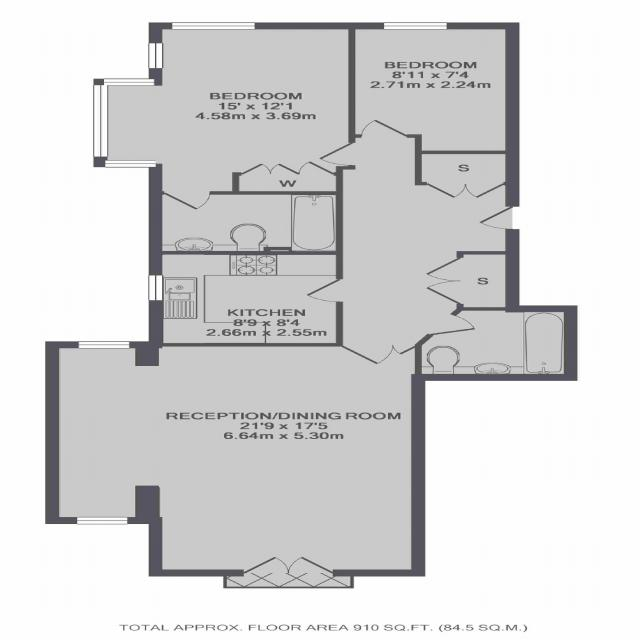DOOR: (425, 312, 479, 337), (473, 205, 521, 231), (302, 278, 345, 304), (314, 141, 357, 167), (359, 118, 412, 139), (162, 191, 214, 212)
DOUBLE DOOR: (240, 558, 334, 582)
ROOM: (45, 341, 426, 577), (92, 22, 357, 211), (347, 22, 520, 154), (148, 250, 345, 347)
WINDOW: (90, 85, 110, 158), (170, 22, 257, 30), (93, 78, 164, 87), (383, 21, 449, 30), (146, 274, 165, 302), (103, 159, 158, 168), (147, 43, 165, 69), (78, 341, 131, 349), (76, 517, 129, 525)
